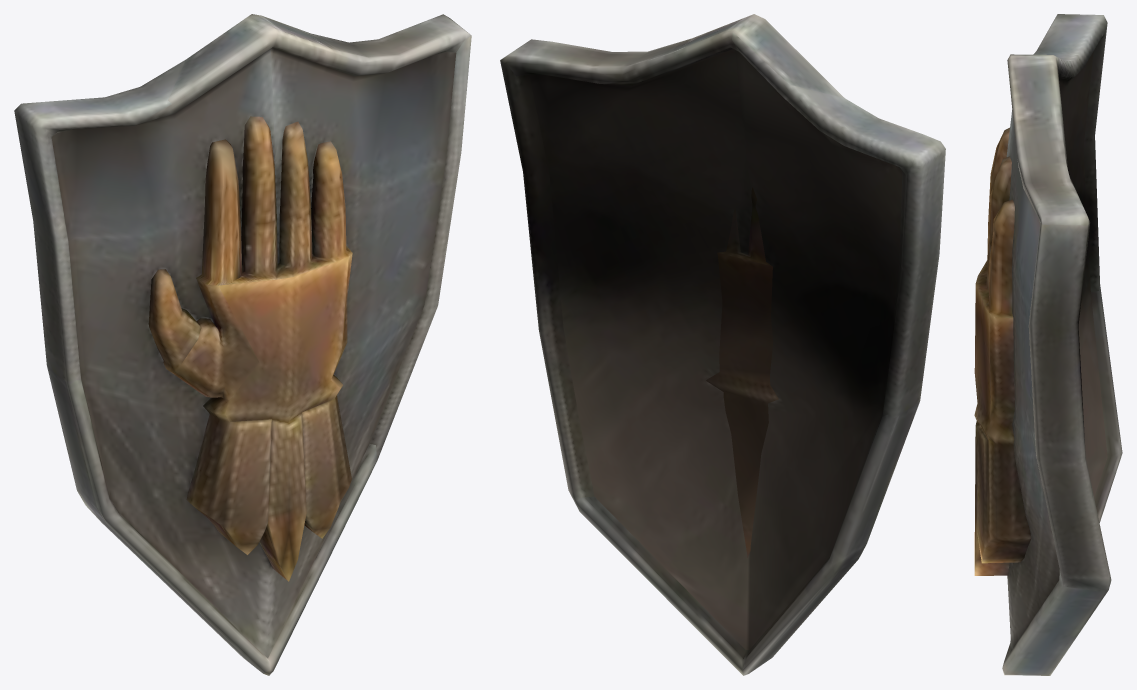
Rendered from Shield_Metal_1.glb.
3 renders of one model, left to right at view 1: azimuth 30°, elevation 25°; view 2: azimuth 150°, elevation 25°; view 3: azimuth 270°, elevation 25°, orthographic. The views are drawn at different scales.
Parts seen in each view (by area): view 1: body_low.002; view 2: body_low.002; view 3: body_low.002.
Part boxes in pixels (bbox=[...]): body_low.002: bbox=[14, 14, 471, 675]; body_low.002: bbox=[500, 14, 945, 675]; body_low.002: bbox=[974, 14, 1122, 675].
Size of the model in its own units: 0.7282 by 1.04 by 0.2241.
1 material, 1 textured.
